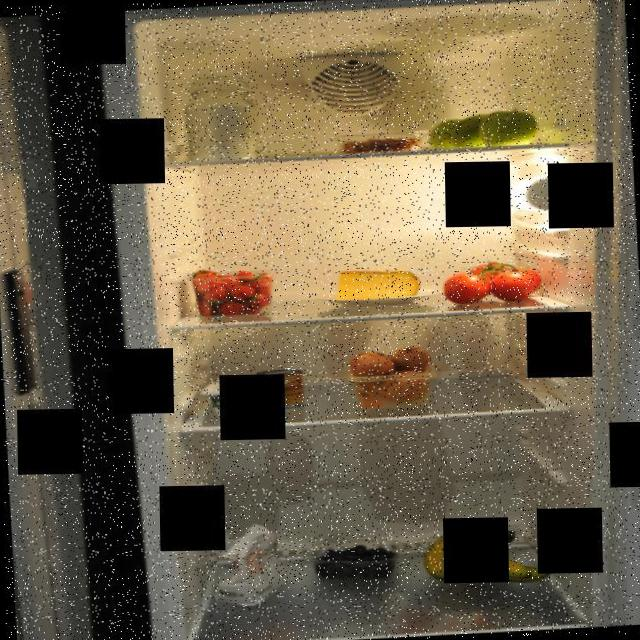Cebolla: (340, 342, 430, 408)
Gambas/Langostinos: (338, 131, 426, 156)
Manzana: (422, 103, 540, 150)
Plátano: (418, 518, 552, 590)
Queso: (333, 262, 422, 308), (202, 378, 268, 422)
Tomate: (440, 250, 548, 306)
blueberries: (311, 538, 405, 586)
corn: (254, 364, 311, 409)
flour: (212, 521, 292, 606)
strawberries: (184, 260, 282, 322)
sugar: (179, 70, 264, 164)
